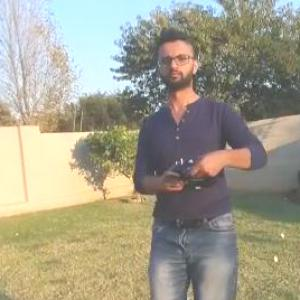follow: (130, 22, 271, 299)
